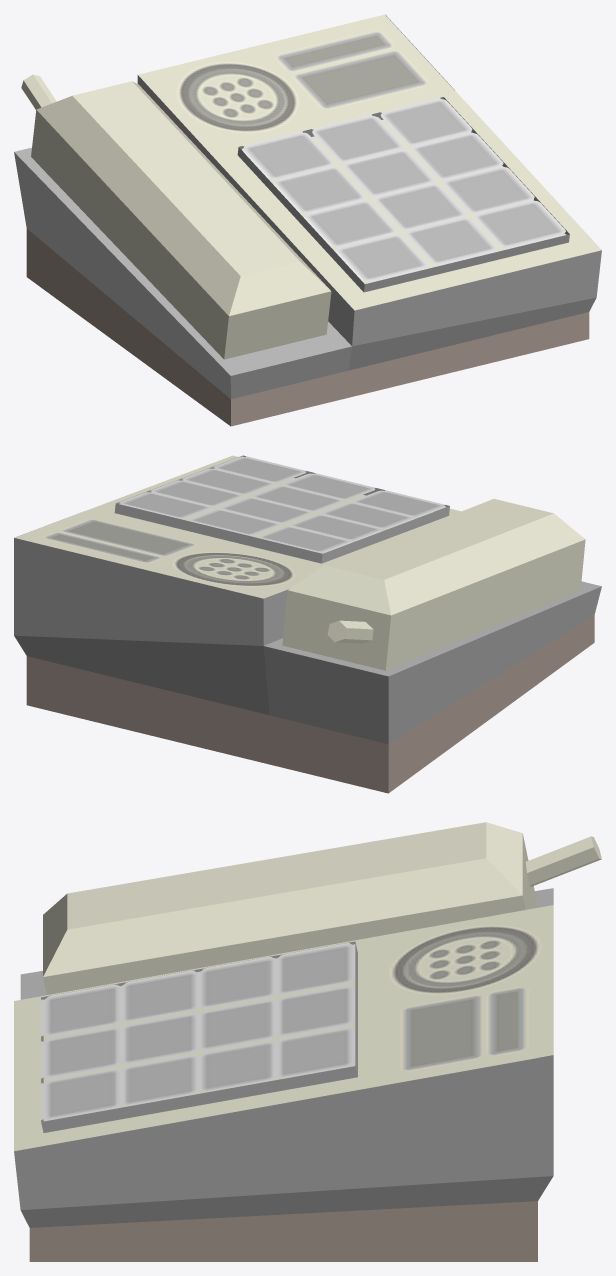
File: Phone.fbx
3 views of the same model, one above another, from view 1: azimuth 30°, elevation 25°; view 2: azimuth 150°, elevation 25°; view 3: azimuth 270°, elevation 25° (orthographic). The views are drawn at different scales.
Parts seen in each view (by area): view 1: Phone; view 2: Phone; view 3: Phone.
Part boxes in pixels (x1,y1,x2,y2): Phone: (14, 14, 601, 426); Phone: (14, 455, 601, 793); Phone: (14, 822, 601, 1261).
Bounding box in the file's own units: 37.24 × 18.26 × 41.03.
